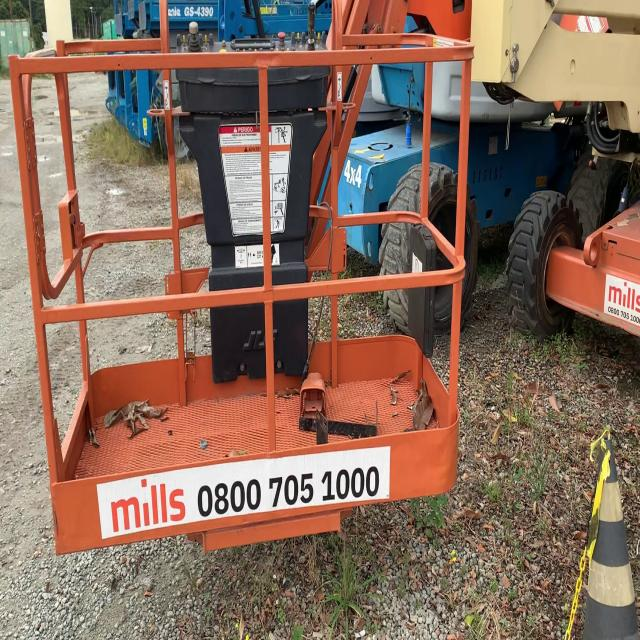Adesivo Longo: (95, 444, 391, 544)
